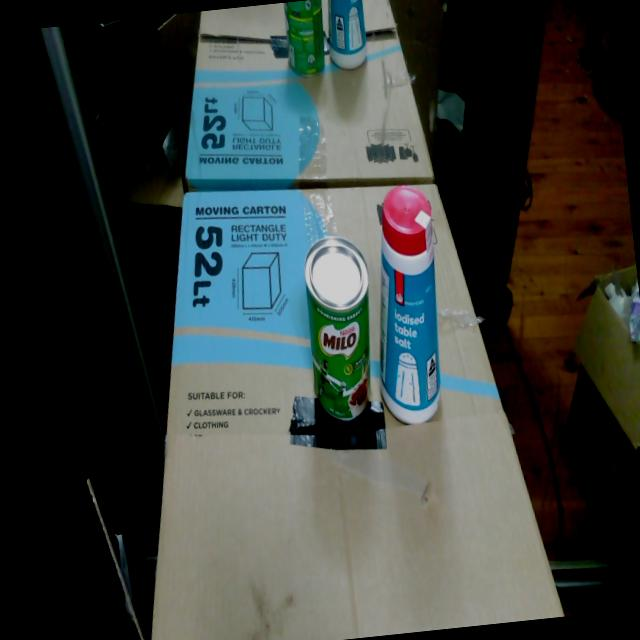nestle_milo_tin: (304, 235, 370, 420)
woolworths_salt_bottle: (379, 185, 440, 423)
